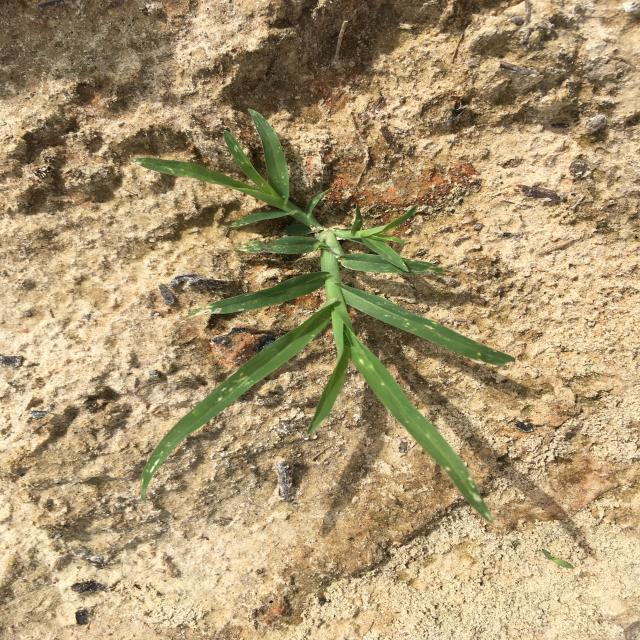Goosegrass: (128, 109, 516, 524)
